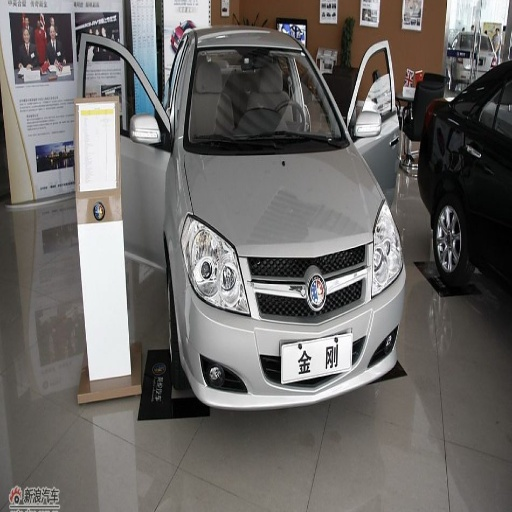front_bumper: (180, 255, 406, 407)
front_left_light: (371, 208, 403, 294)
front_right_door: (122, 70, 174, 221)
front_right_light: (181, 213, 247, 315)
hood: (193, 147, 380, 278)
